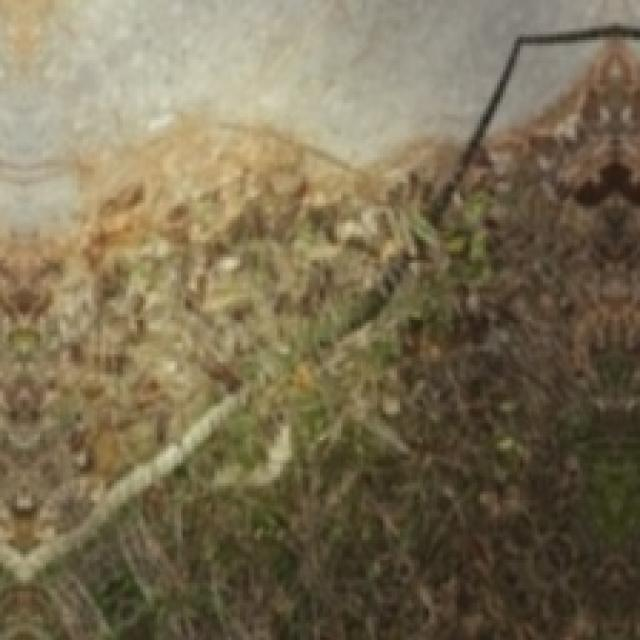king cobra: (0, 43, 637, 637)
